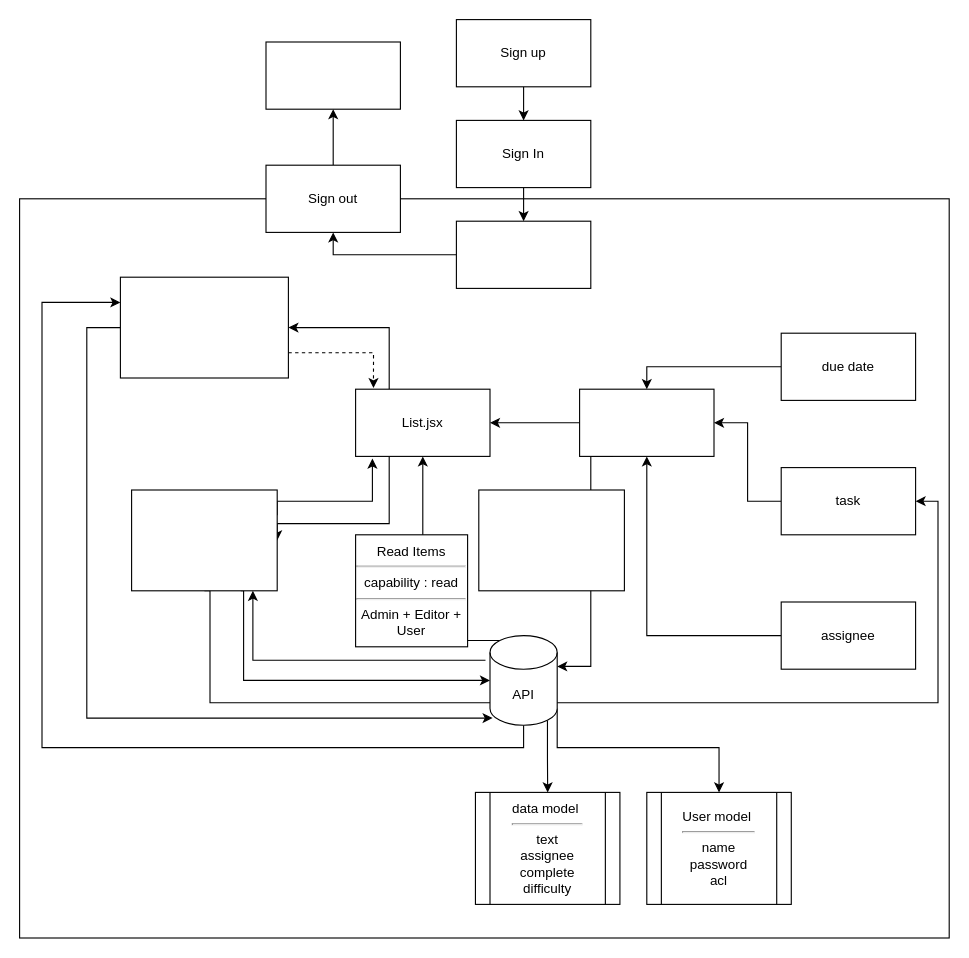
Some shapes in this 969 by 958 pixel diagram are drawn without their labels. Each missing label, with the box of its shape:
Add item capability : create Admin + Editor: (478, 489, 624, 591)
Delete item capability : delete Admin: (119, 276, 288, 378)
Form.jsx: (578, 388, 714, 456)
Home: (265, 41, 400, 109)
ToDo: (455, 220, 591, 288)
Update Item capability : update Admin + Editor: (130, 489, 277, 591)
